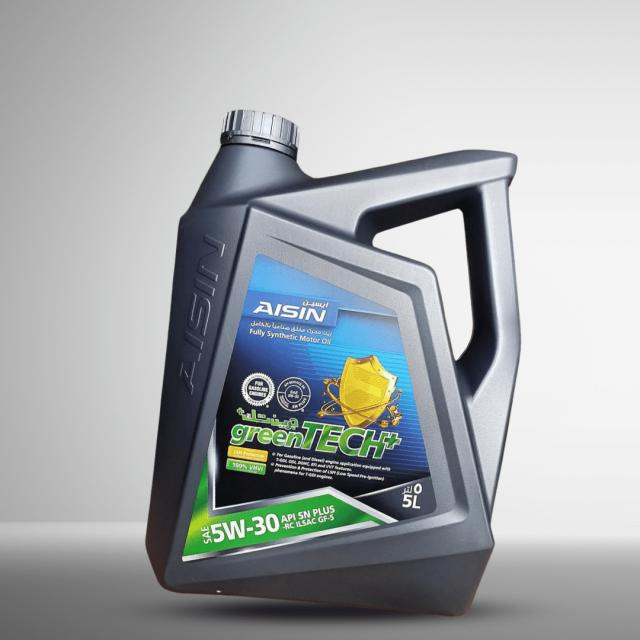motor_oil: (147, 89, 513, 626)
